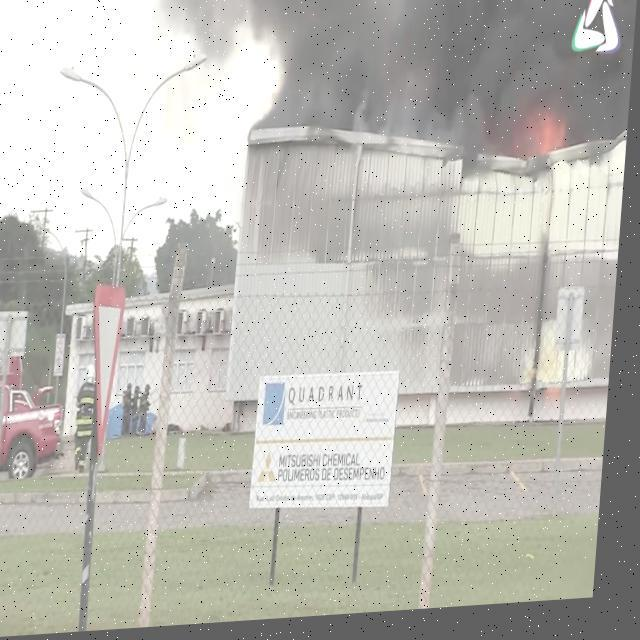Fire: (520, 110, 578, 170)
